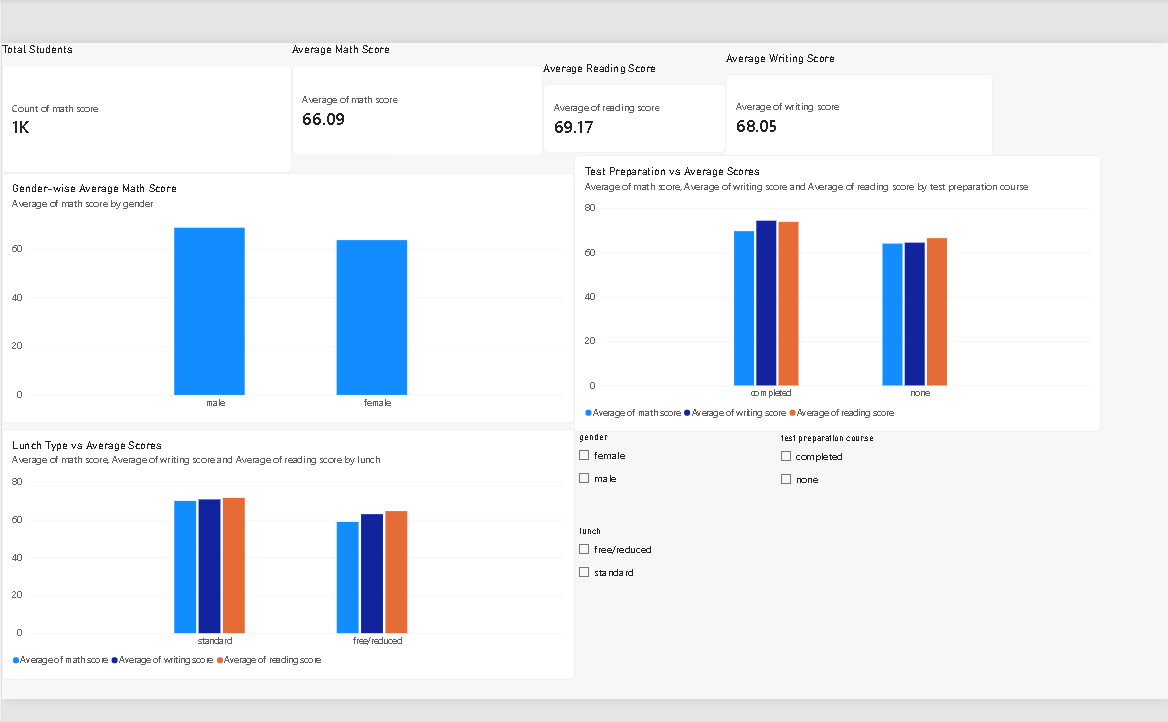

Layout of this report page (visuals, bound fields, positions):
{"tool":"powerbi","page":{"name":"Page 1","canvas":[1920,1080],"ordinal":0},"visuals":[{"type":"cardVisual","title":"Total Students","fields":{"Data":["CountNonNull(Cleaned_StudentsPerformance.math score)"]},"box":[0,0,477.5,214.1],"z":0},{"type":"cardVisual","title":"Average Math Score","fields":{"Data":["Avg(Cleaned_StudentsPerformance.math score)"]},"box":[477.5,0,413.7,185.2],"z":1},{"type":"cardVisual","title":"Average Reading Score","fields":{"Data":["Avg(Cleaned_StudentsPerformance.reading score)"]},"box":[891.3,30.9,300,150],"z":2},{"type":"cardVisual","title":"Average Writing Score","fields":{"Data":["Avg(Cleaned_StudentsPerformance.writing score)"]},"box":[1191.8,14.4,440.5,179.1],"z":3},{"type":"clusteredColumnChart","title":"Gender-wise Average Math Score","fields":{"Category":["Cleaned_StudentsPerformance.gender"],"Y":["Avg(Cleaned_StudentsPerformance.math score)"]},"box":[0,214.1,942.7,411.7],"z":4},{"type":"clusteredColumnChart","title":"Test Preparation vs Average Scores","fields":{"Category":["Cleaned_StudentsPerformance.test preparation course"],"Y":["Avg(Cleaned_StudentsPerformance.math score)","Avg(Cleaned_StudentsPerformance.writing score)","Avg(Cleaned_StudentsPerformance.reading score)"]},"box":[942.7,185.2,866.6,454.9],"z":5},{"type":"clusteredColumnChart","title":"Lunch Type vs Average Scores","fields":{"Category":["Cleaned_StudentsPerformance.lunch"],"Y":["Avg(Cleaned_StudentsPerformance.math score)","Avg(Cleaned_StudentsPerformance.writing score)","Avg(Cleaned_StudentsPerformance.reading score)"]},"box":[0,636,943,412],"z":6},{"type":"slicer","fields":{"Values":["Cleaned_StudentsPerformance.gender"]},"box":[942.7,640.1,292.3,154.4],"z":7},{"type":"slicer","fields":{"Values":["Cleaned_StudentsPerformance.lunch"]},"box":[942.7,794.5,249.1,158.5],"z":8},{"type":"slicer","fields":{"Values":["Cleaned_StudentsPerformance.test preparation course"]},"box":[1274.1,642.2,306.7,154.4],"z":9}]}

Visuals, with their boxes on the page's 1920x1080 design canvas (x1, y1, x2, y2). These are canvas units, not pixel positions in the 1168x722 screenshot, which may show the page scaled, cropped or inside an application window:
"Total Students" cardVisual: box=[0, 0, 478, 214]
"Average Math Score" cardVisual: box=[478, 0, 891, 185]
"Average Reading Score" cardVisual: box=[891, 31, 1191, 181]
"Average Writing Score" cardVisual: box=[1192, 14, 1632, 194]
"Gender-wise Average Math Score" clusteredColumnChart: box=[0, 214, 943, 626]
"Test Preparation vs Average Scores" clusteredColumnChart: box=[943, 185, 1809, 640]
"Lunch Type vs Average Scores" clusteredColumnChart: box=[0, 636, 943, 1048]
slicer - Cleaned_StudentsPerformance.gender: box=[943, 640, 1235, 794]
slicer - Cleaned_StudentsPerformance.lunch: box=[943, 794, 1192, 953]
slicer - Cleaned_StudentsPerformance.test preparation course: box=[1274, 642, 1581, 797]
